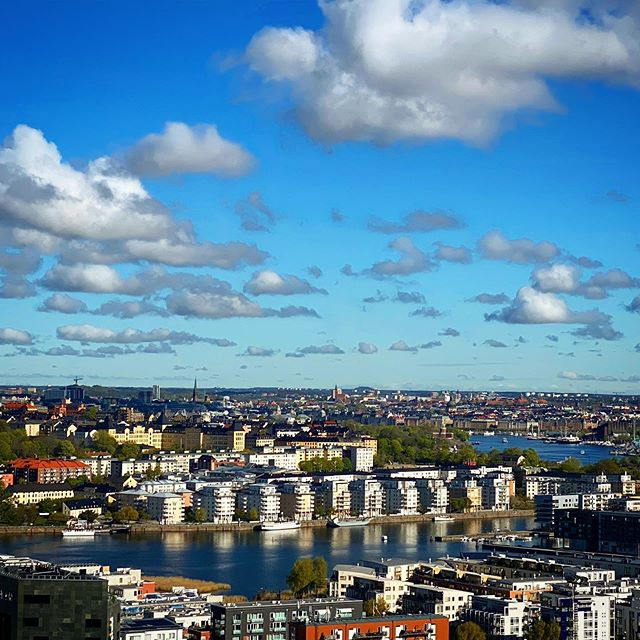building: (58, 412, 249, 447), (256, 437, 390, 472), (123, 484, 189, 525), (460, 467, 515, 516), (274, 473, 319, 525), (351, 471, 388, 522), (243, 478, 282, 526), (385, 473, 423, 522), (198, 489, 247, 526), (322, 472, 355, 518), (424, 470, 452, 515)
river: (1, 510, 556, 581)
sky: (1, 1, 636, 394)
